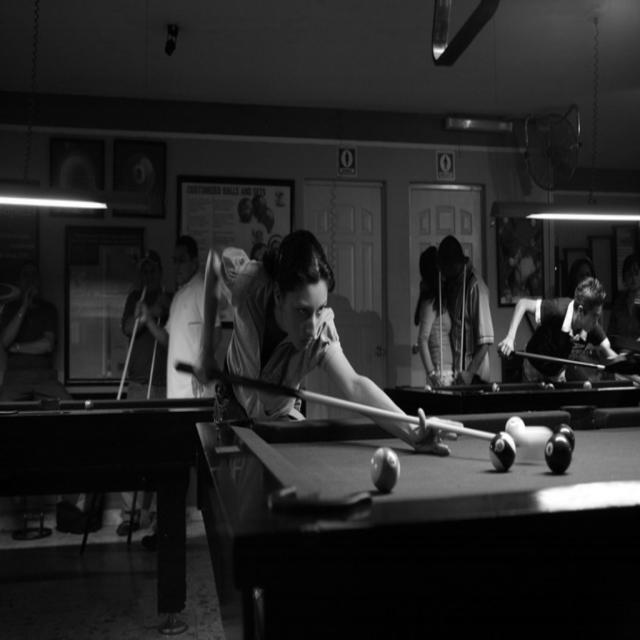Ball: (372, 446, 398, 494), (546, 436, 572, 473), (488, 436, 515, 471), (553, 420, 576, 455), (507, 418, 522, 443), (506, 413, 522, 429), (559, 425, 573, 438)
Billiard table: (195, 405, 640, 639), (0, 401, 225, 639), (381, 379, 639, 414)
